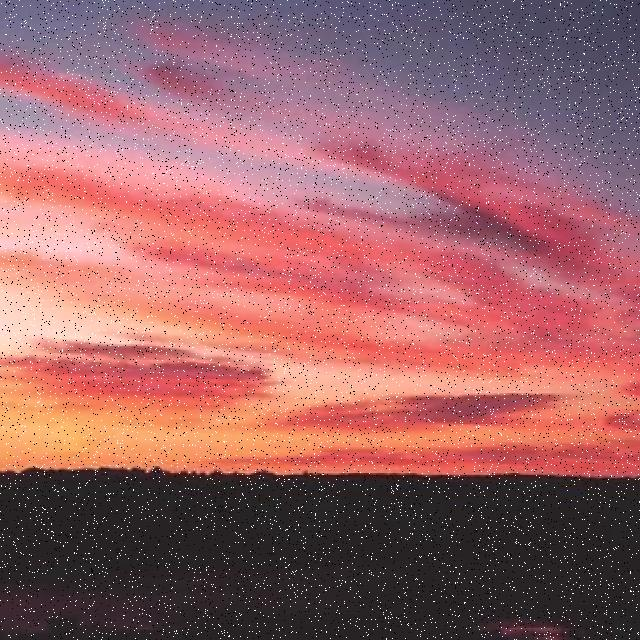Ci: (5, 7, 640, 445)
